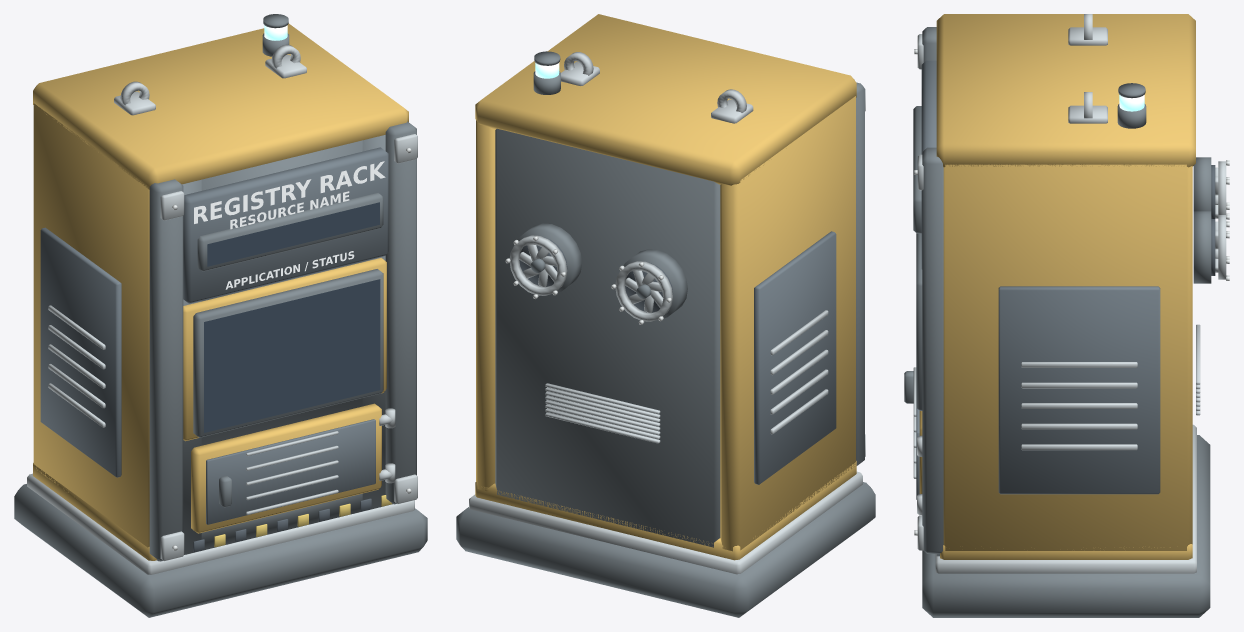
File: registry_rack_standard.glb
3 renders of one model, left to right at view 1: azimuth 30°, elevation 25°; view 2: azimuth 150°, elevation 25°; view 3: azimuth 270°, elevation 25°, orthographic. The views are drawn at different scales.
Visible parts, largest first — view 1: Roof_gold, SideWall_gold, CornerPost_frame, LiveViewSurface_glass, Skid_frame, SideServicePanel_graphite, FrontHeader_graphite, DoorMoving_Inset_graphite, DoorMoving_Panel_gold, SkidDeck_steel, LiveViewSurfaceFrame_frame, ScreenSupport_gold (+16 smaller); view 2: BackWall_frame, SideWall_gold, Roof_gold, Skid_frame, SideServicePanel_graphite, SkidDeck_steel, RearFan_steel, KickPlate_gold, RearVent_steel, CornerPost_frame, RearFan_frame, SideLouver_steel (+3 smaller); view 3: SideWall_gold, Roof_gold, SideServicePanel_graphite, Skid_frame, CornerPost_frame, SkidDeck_steel, SideLouver_steel, RearFan_frame, KickPlate_gold, FrontHeader_graphite, RearFan_steel, LiftMount_steel (+7 smaller).
Part boxes in pixels (bbox=[...]): Roof_gold: bbox=[33, 23, 408, 189]; SideWall_gold: bbox=[33, 103, 149, 547]; CornerPost_frame: bbox=[149, 121, 416, 561]; LiveViewSurface_glass: bbox=[204, 279, 380, 432]; Skid_frame: bbox=[14, 484, 427, 617]; SideServicePanel_graphite: bbox=[40, 227, 121, 477]; FrontHeader_graphite: bbox=[183, 147, 388, 303]; DoorMoving_Inset_graphite: bbox=[206, 419, 375, 524]; DoorMoving_Panel_gold: bbox=[191, 403, 381, 533]; SkidDeck_steel: bbox=[27, 473, 414, 574]; LiveViewSurfaceFrame_frame: bbox=[193, 269, 383, 437]; ScreenSupport_gold: bbox=[183, 258, 386, 441]; BackWall_frame: bbox=[495, 128, 720, 547]; SideWall_gold: bbox=[476, 96, 855, 551]; Roof_gold: bbox=[475, 14, 856, 185]; Skid_frame: bbox=[456, 482, 875, 617]; SideServicePanel_graphite: bbox=[754, 231, 836, 484]; SkidDeck_steel: bbox=[469, 471, 862, 574]; RearFan_steel: bbox=[509, 235, 672, 321]; KickPlate_gold: bbox=[475, 461, 856, 560]; RearVent_steel: bbox=[545, 383, 660, 443]; CornerPost_frame: bbox=[856, 82, 864, 465]; RearFan_frame: bbox=[518, 223, 687, 319]; SideLouver_steel: bbox=[770, 310, 828, 434]; SideWall_gold: bbox=[943, 164, 1192, 550]; Roof_gold: bbox=[936, 14, 1195, 167]; SideServicePanel_graphite: bbox=[998, 286, 1160, 494]; Skid_frame: bbox=[922, 435, 1210, 617]; CornerPost_frame: bbox=[922, 27, 943, 553]; SkidDeck_steel: bbox=[935, 424, 1196, 573]; SideLouver_steel: bbox=[1021, 362, 1137, 450]; RearFan_frame: bbox=[1193, 157, 1211, 283]; KickPlate_gold: bbox=[940, 544, 1192, 559]; FrontHeader_graphite: bbox=[921, 60, 936, 269]; RearFan_steel: bbox=[1215, 161, 1226, 279]; LiftMount_steel: bbox=[1068, 27, 1107, 123].
Size of the model in its own units: 1.6 by 2.53 by 1.48.
